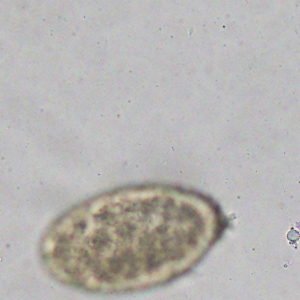Fasciola_hepatica_egg: (37, 180, 228, 293)
